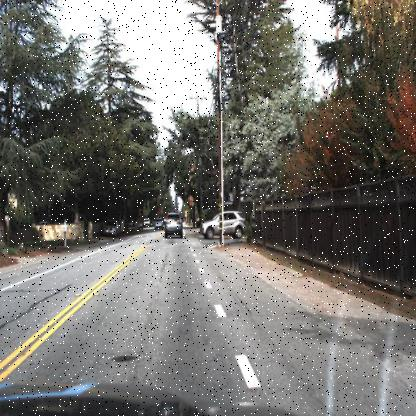car: (200, 209, 248, 237), (100, 212, 124, 239), (163, 211, 184, 241), (103, 220, 122, 236)
